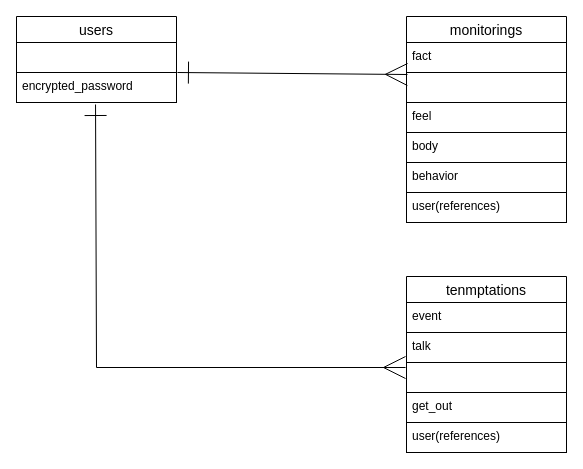
The diagram is 583 pixels wide and 469 high, and some of its shapes have lost their labels. The shapes that lost their labels are listed below. From the top down, each one's centre as x and y in pixels, then its label:
pixel 96 57: email
pixel 486 87: mind
pixel 486 377: cost
